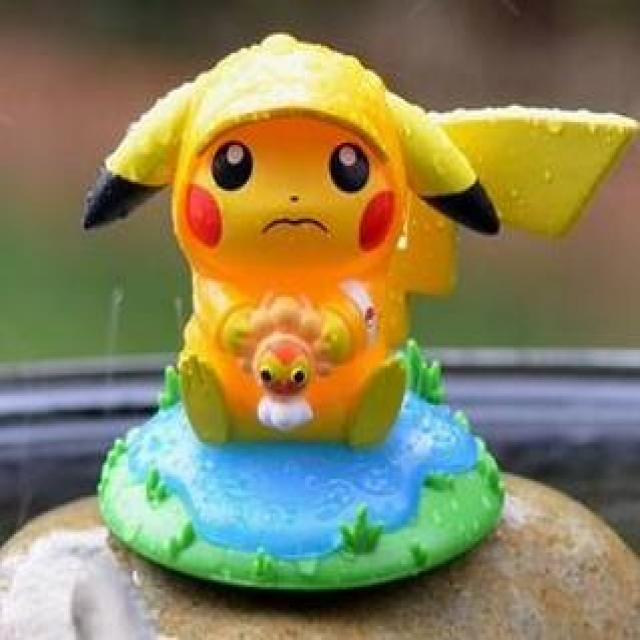pikachu: (81, 33, 498, 442)
